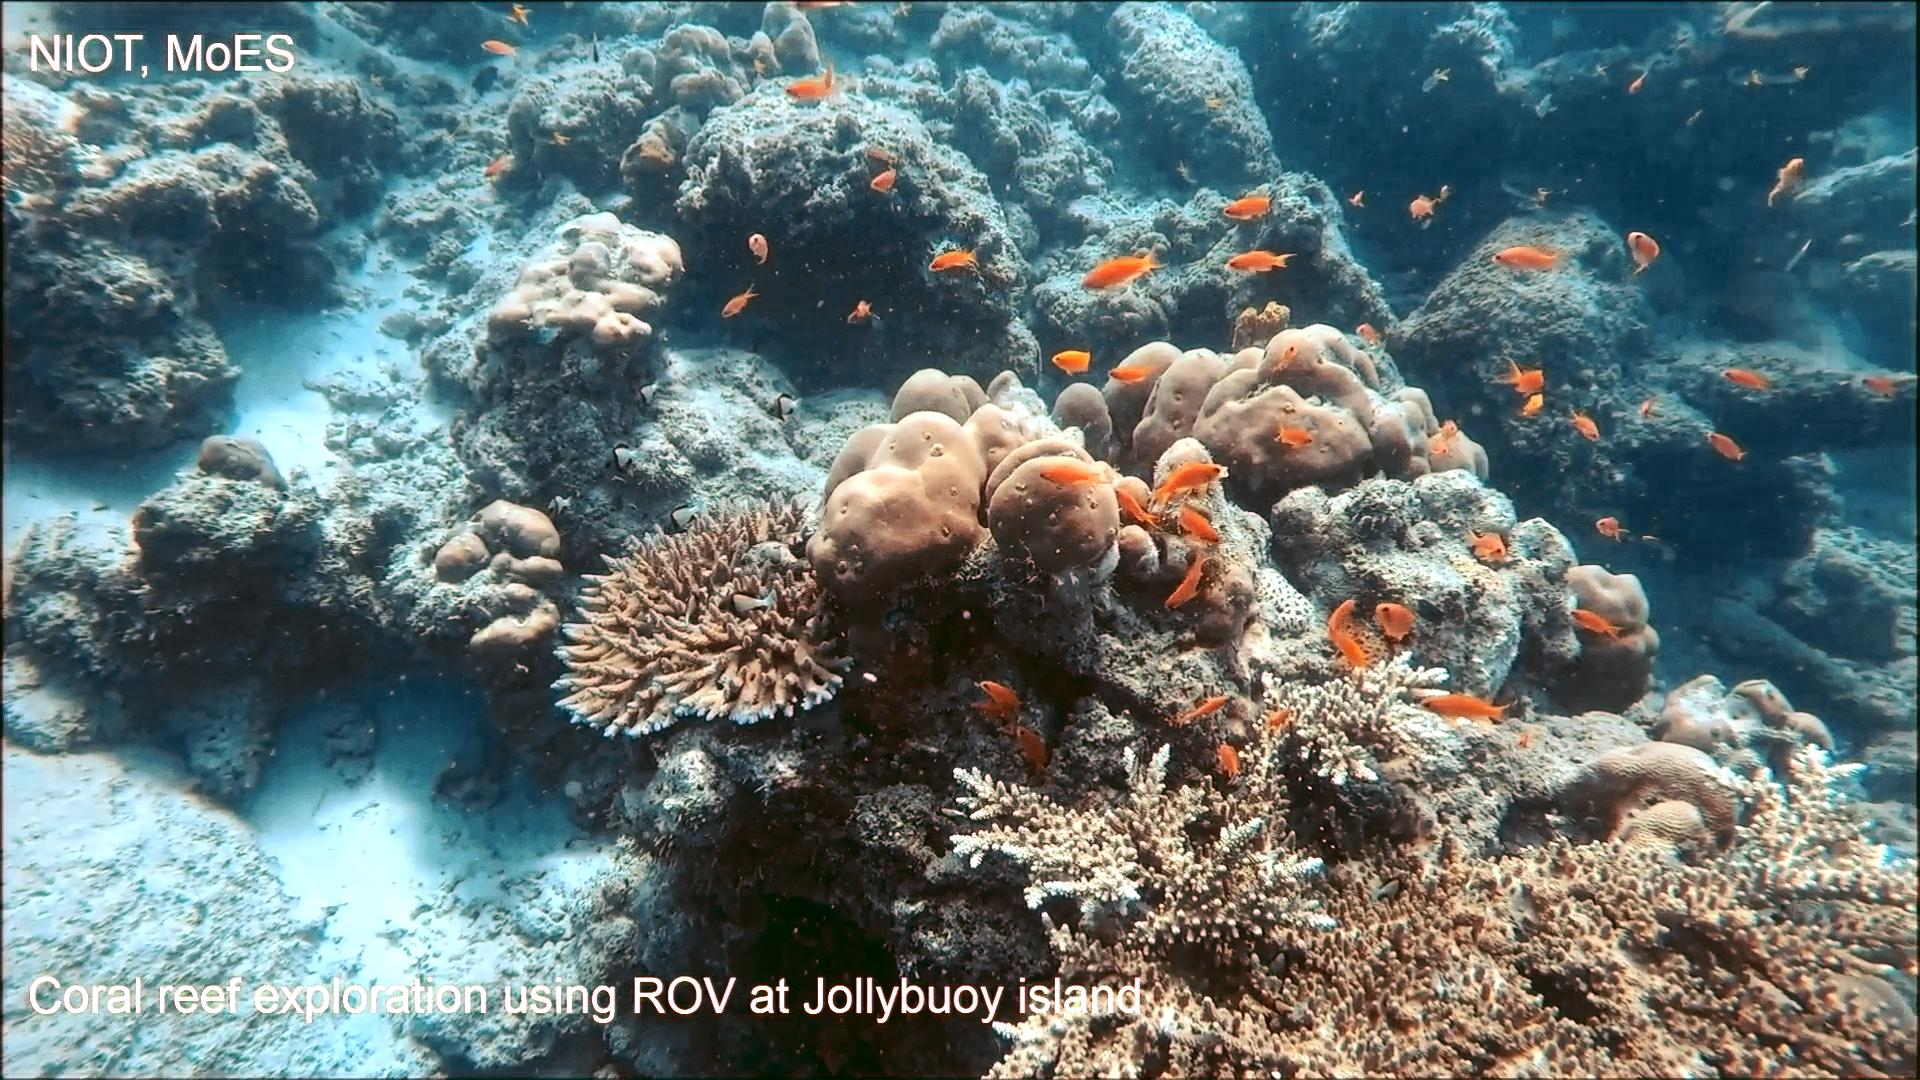Porites-Porites pukoensis: (800, 363, 1126, 611), (1080, 314, 1495, 504)
